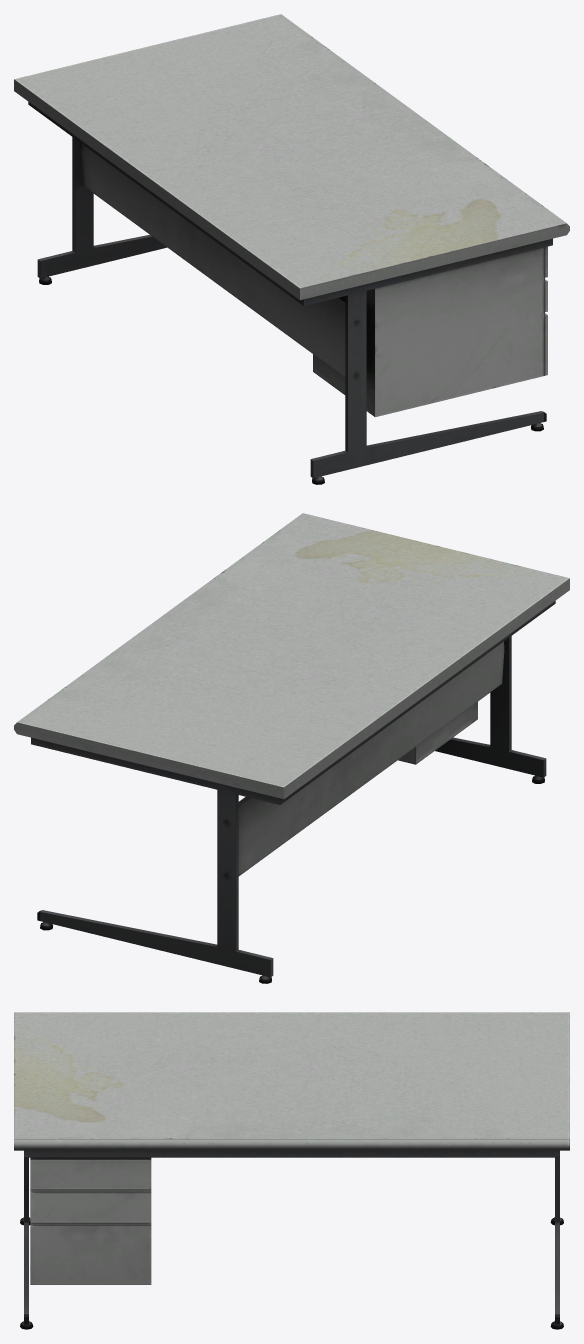
The model's file is lab_desk05.glb.
3 renders of one model, top to bottom at view 1: azimuth 30°, elevation 25°; view 2: azimuth 150°, elevation 25°; view 3: azimuth 270°, elevation 25°, orthographic. The views are drawn at different scales.
Visible parts, largest first — view 1: lab_desk05_parts\obj\lab_desk05.obj; view 2: lab_desk05_parts\obj\lab_desk05.obj; view 3: lab_desk05_parts\obj\lab_desk05.obj.
Part boxes in pixels (<box>): lab_desk05_parts\obj\lab_desk05.obj: <box>14,14,569,484</box>; lab_desk05_parts\obj\lab_desk05.obj: <box>14,513,569,983</box>; lab_desk05_parts\obj\lab_desk05.obj: <box>14,1012,569,1329</box>.
Bounding box in the file's own units: 0.9911 × 0.7173 × 1.82.
Materials: 1 (1 with a texture image).
